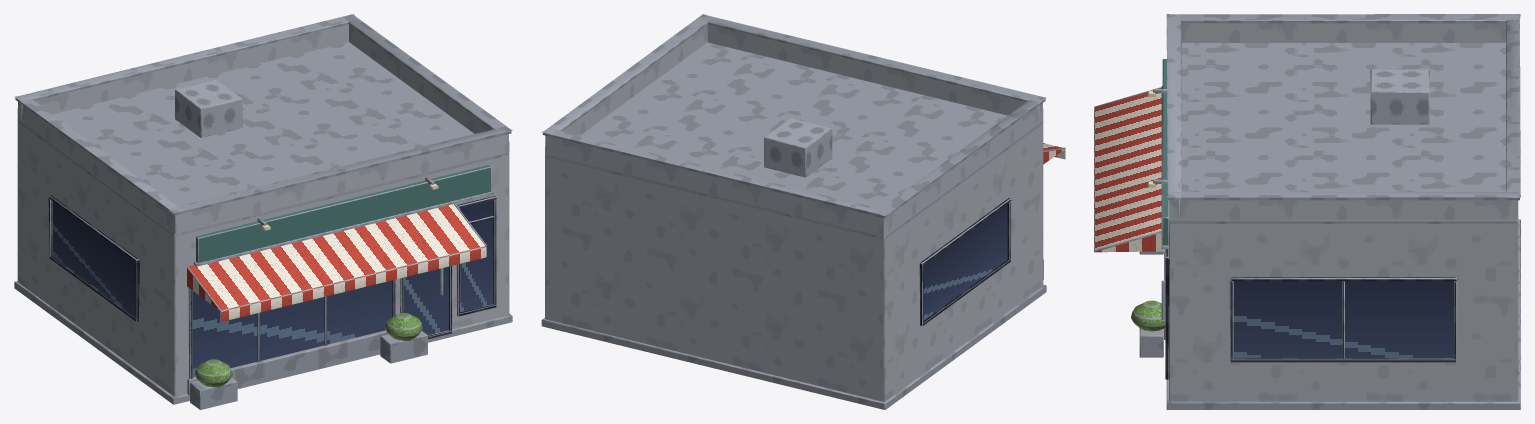
File: modern_shop_1.glb
The picture shows the model from 3 angles, left to right: view 1: azimuth 30°, elevation 25°; view 2: azimuth 150°, elevation 25°; view 3: azimuth 270°, elevation 25°; orthographic projection. The views are drawn at different scales.
Parts seen in each view (by area): view 1: modern_shop_2; view 2: modern_shop_2; view 3: modern_shop_2.
Part boxes in pixels (bbox=[...]): modern_shop_2: bbox=[14, 14, 512, 409]; modern_shop_2: bbox=[541, 14, 1065, 409]; modern_shop_2: bbox=[1094, 14, 1520, 409].
Size of the model in its own units: 8.14 by 4.55 by 7.95.
9 materials, 9 textured.
